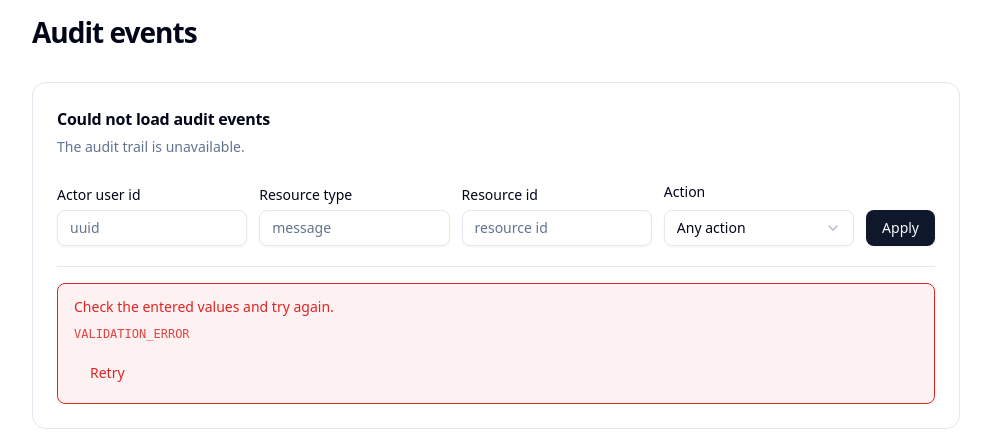
Scenario: AuditEventsPage (CAP-044 Slice 2 / AC 14) › renders the error panel with retry for a non-permission failure
The width and height of the screenshot is (993, 446).
Check: the form with test id "audit-filters" is shown, box [57,181,935,267]
Click the button "Retry": point(107, 373) [74,355,141,391]
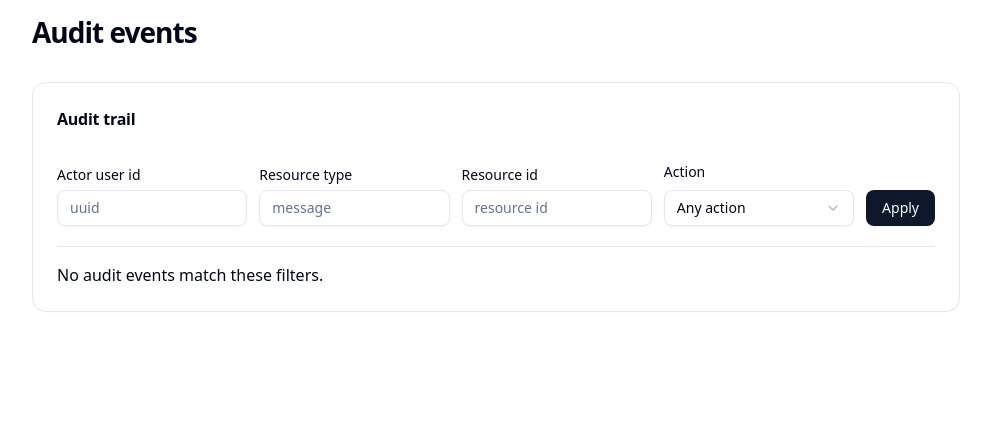
Check: the text "No audit events match these filters." is shown, box [57,264,323,286]
